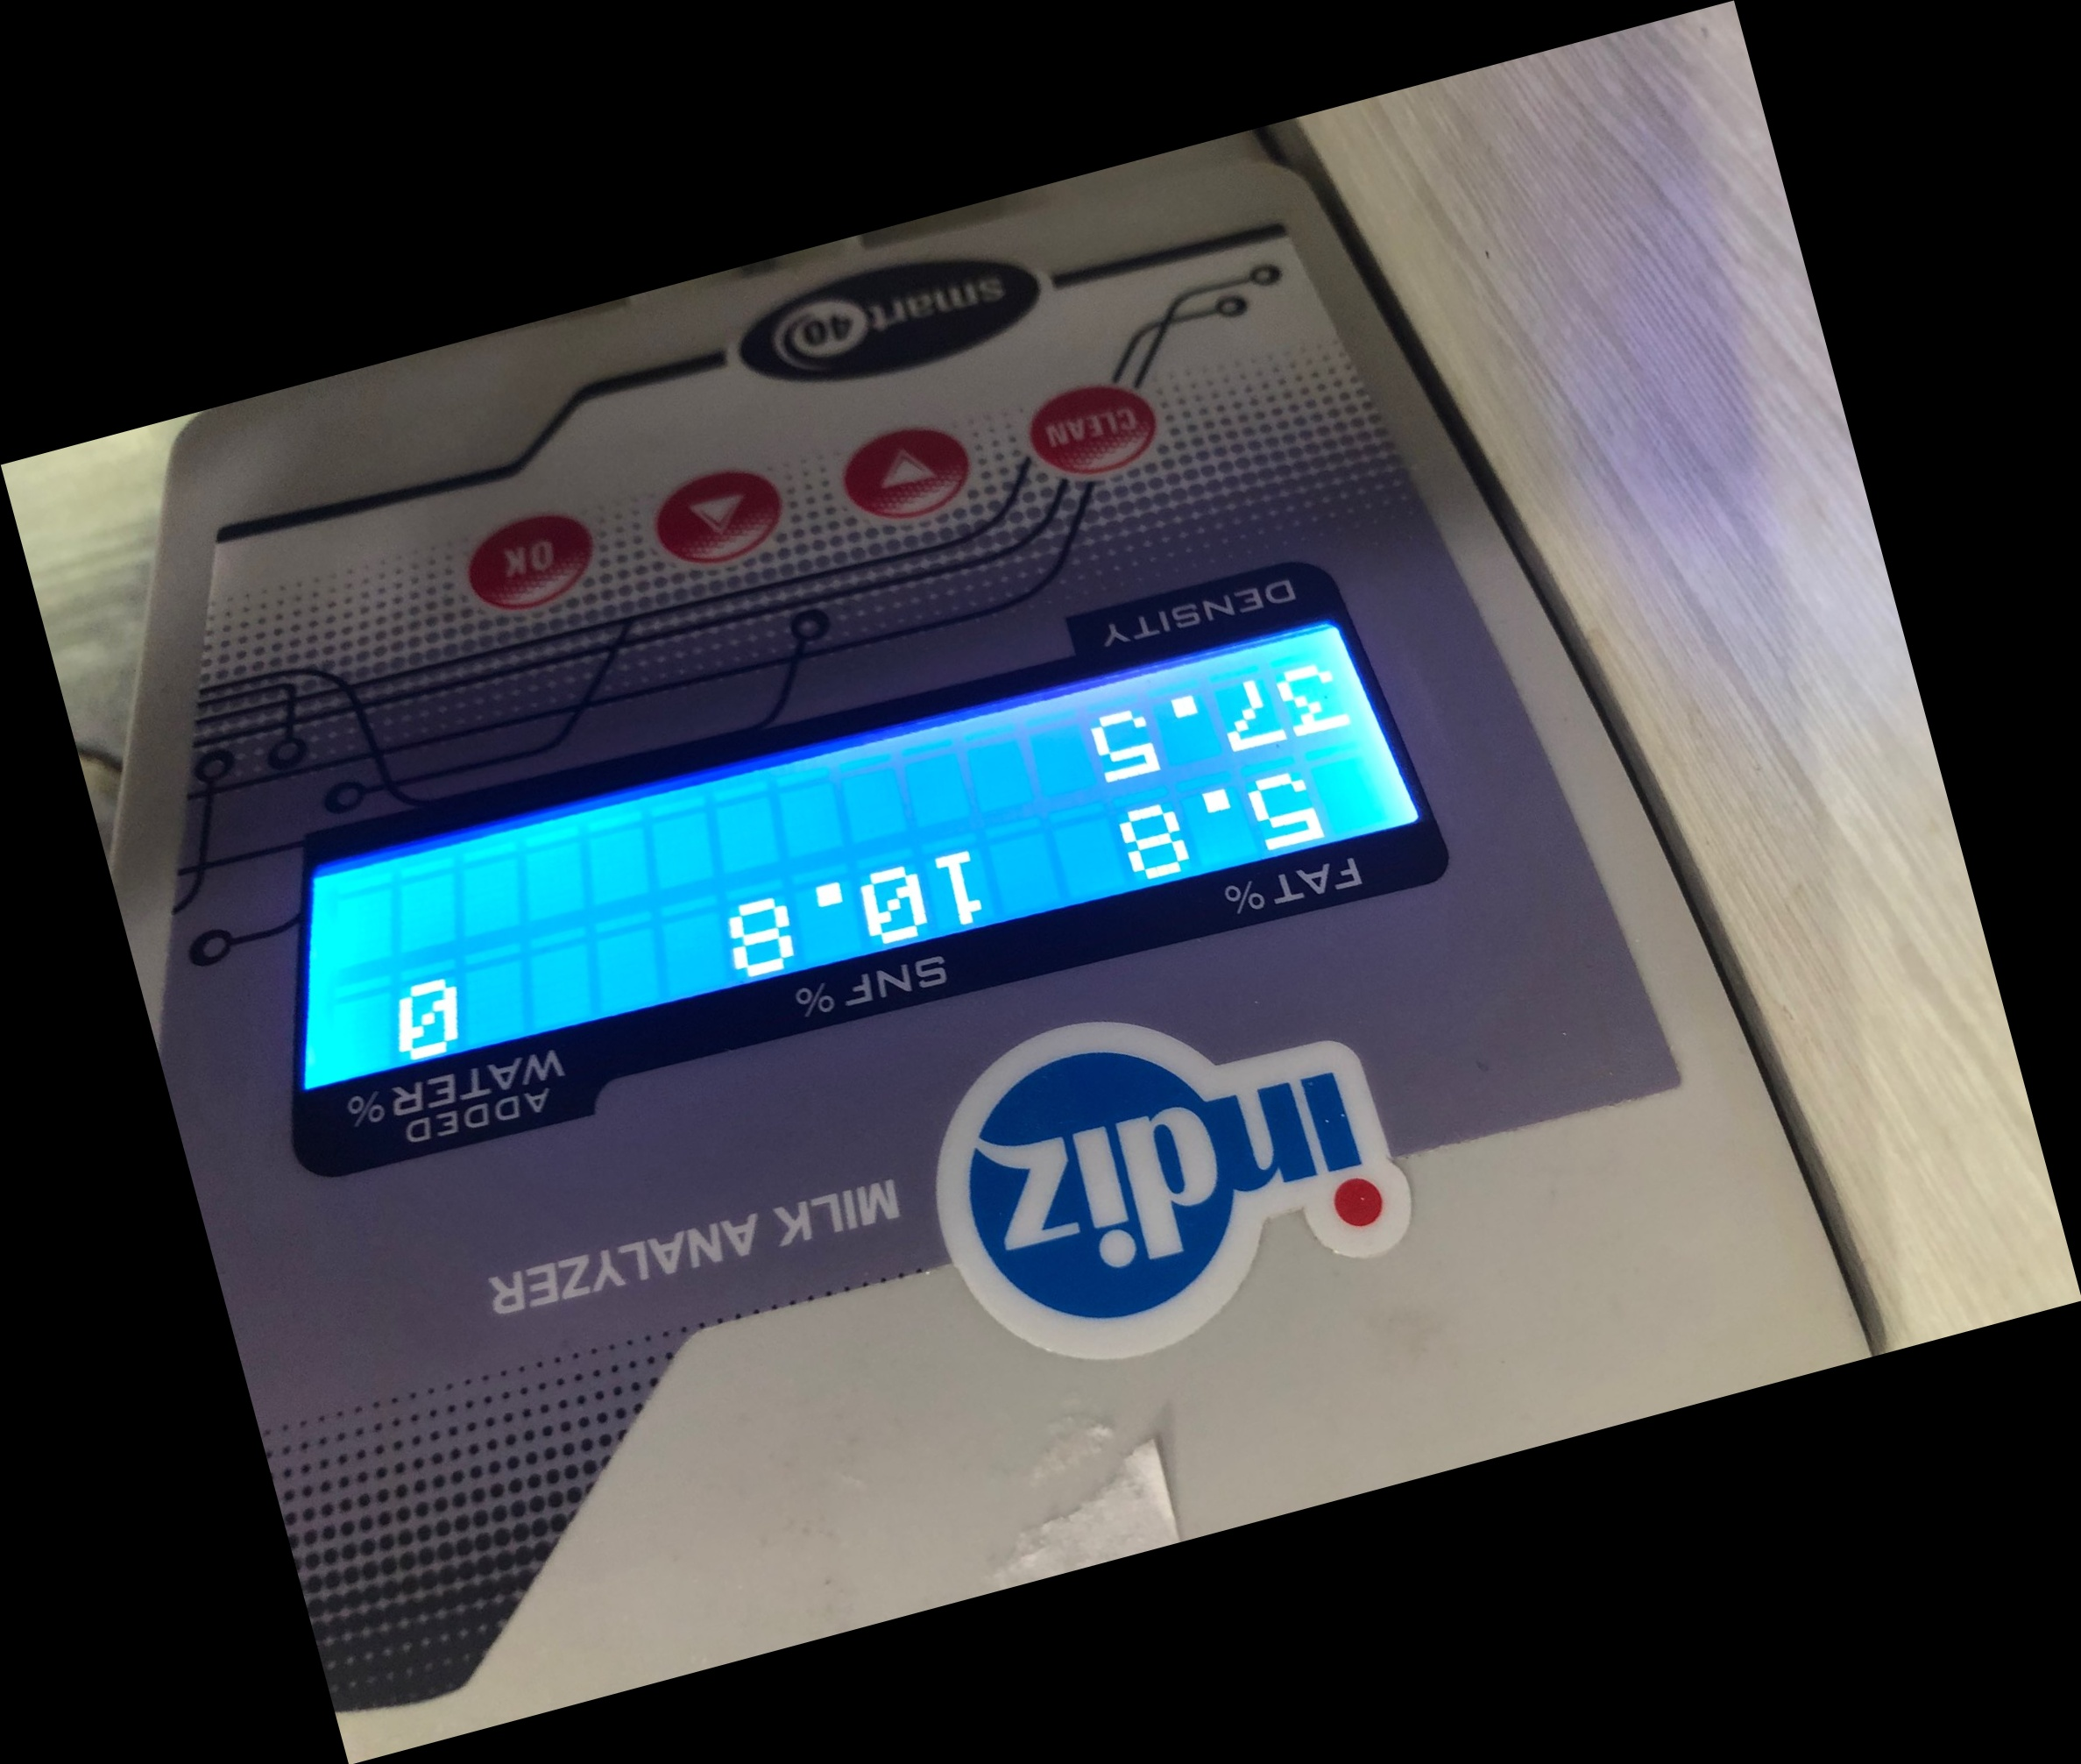lcd: (287, 534, 1475, 1200)
